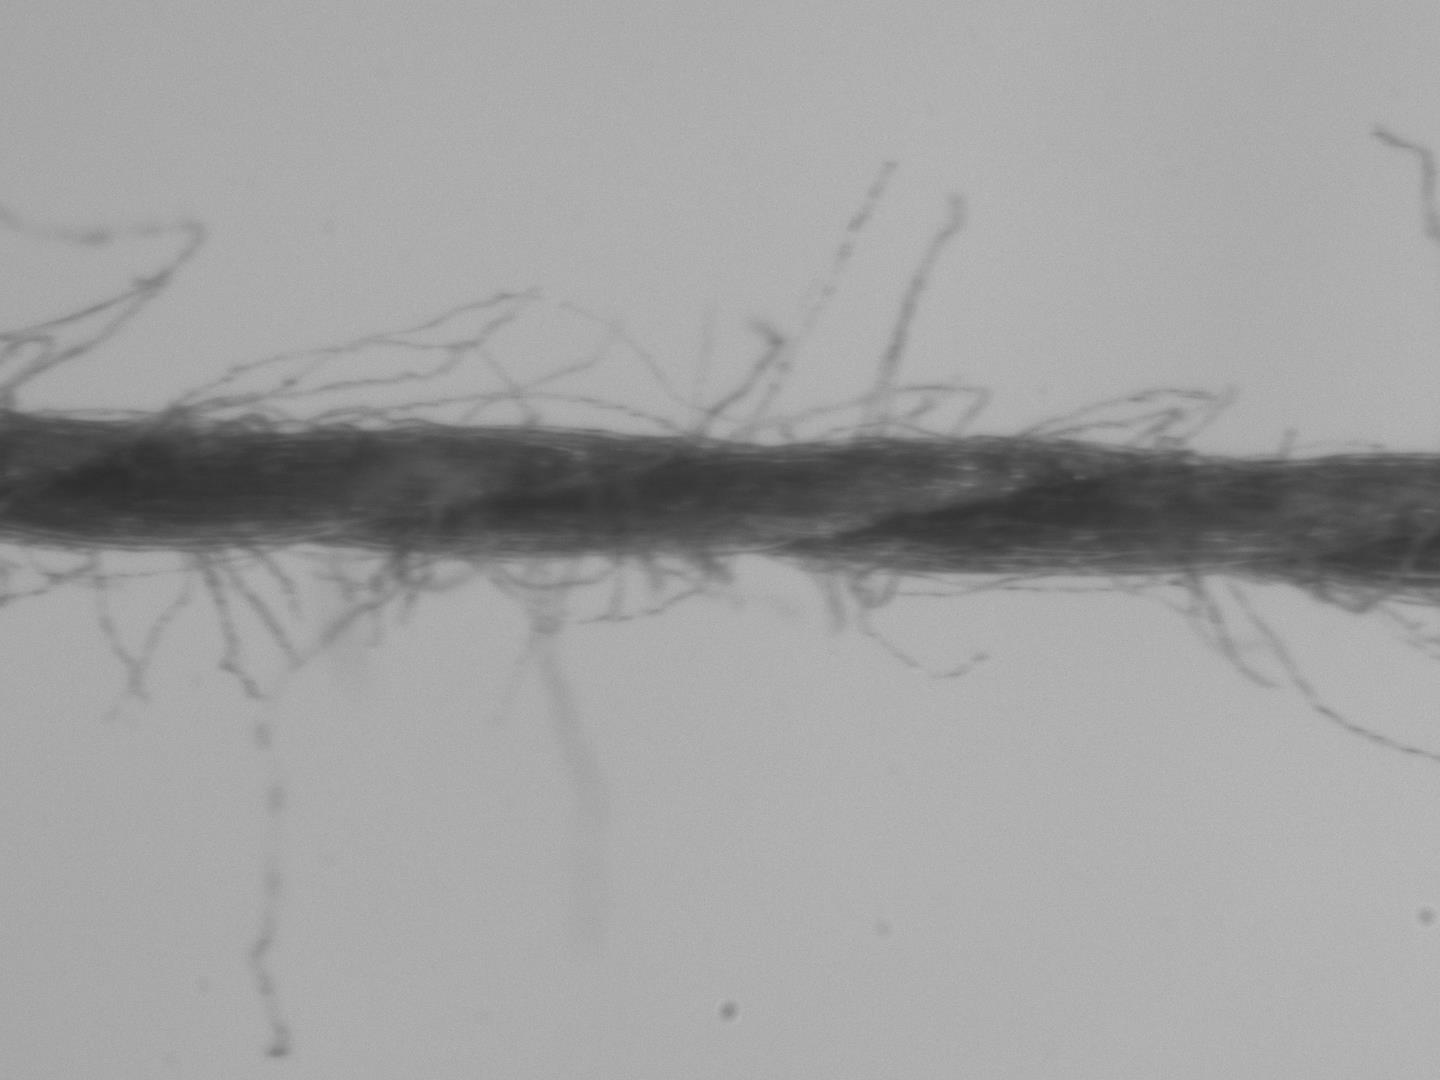loop_fiber: (1000, 385, 1246, 455)
protruding_fiber: (187, 545, 299, 1065)
